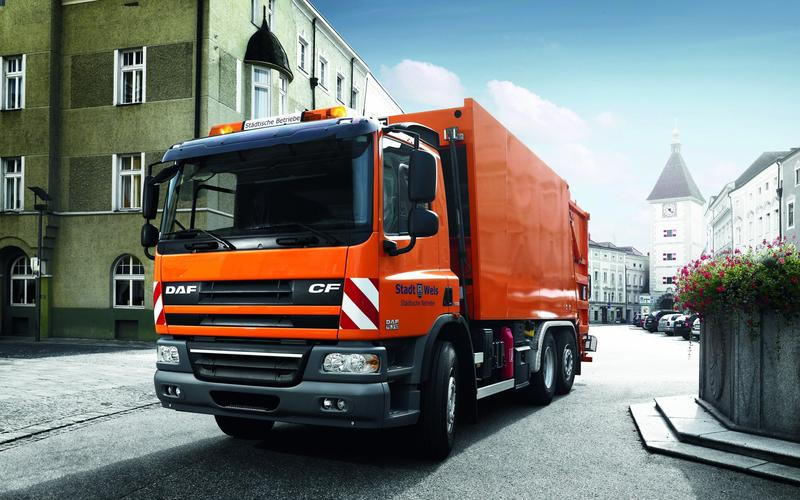卡车: (139, 93, 606, 475)
